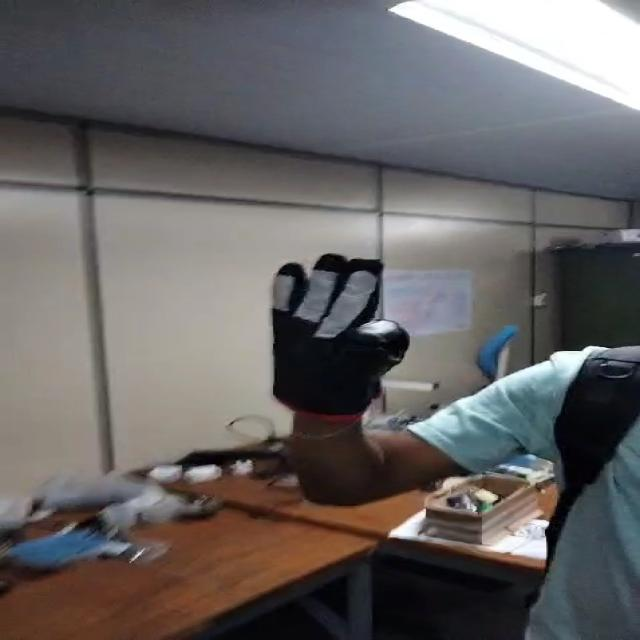Gloves: (261, 252, 432, 424)
